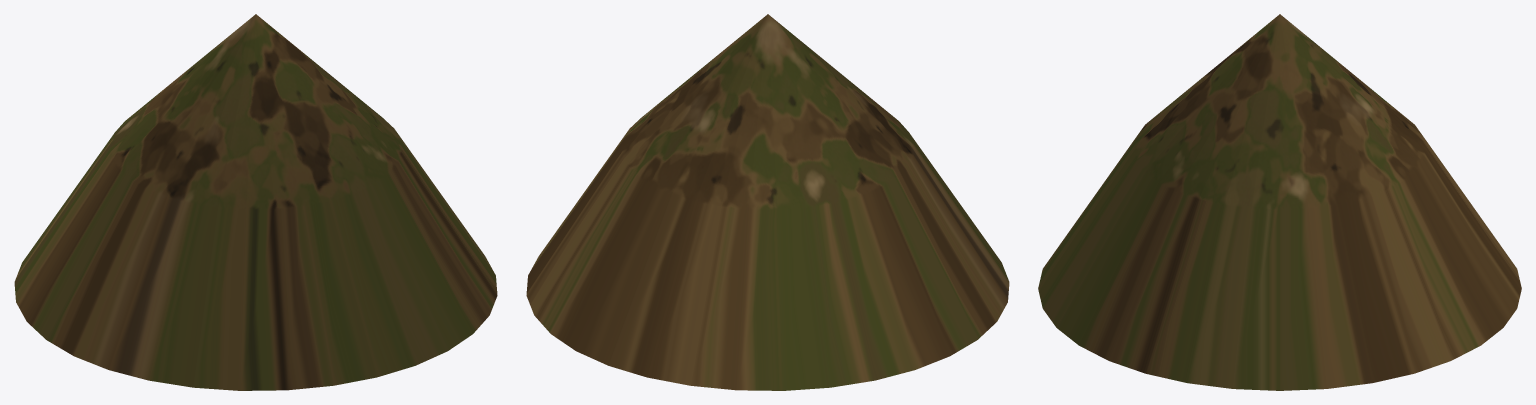
Rendered from XL sharp.glb.
3 views of the same model, side by side, from view 1: azimuth 30°, elevation 25°; view 2: azimuth 150°, elevation 25°; view 3: azimuth 270°, elevation 25° (orthographic).
Visible parts, largest first — view 1: XL sharp; view 2: XL sharp; view 3: XL sharp.
Part boxes in pixels (left/top/right/bottom): XL sharp: left=14, top=14, right=497, bottom=390; XL sharp: left=526, top=14, right=1009, bottom=390; XL sharp: left=1038, top=14, right=1521, bottom=390.
Size of the model in its own units: 0.6523 by 0.4088 by 0.6523.
1 material, 1 textured.
